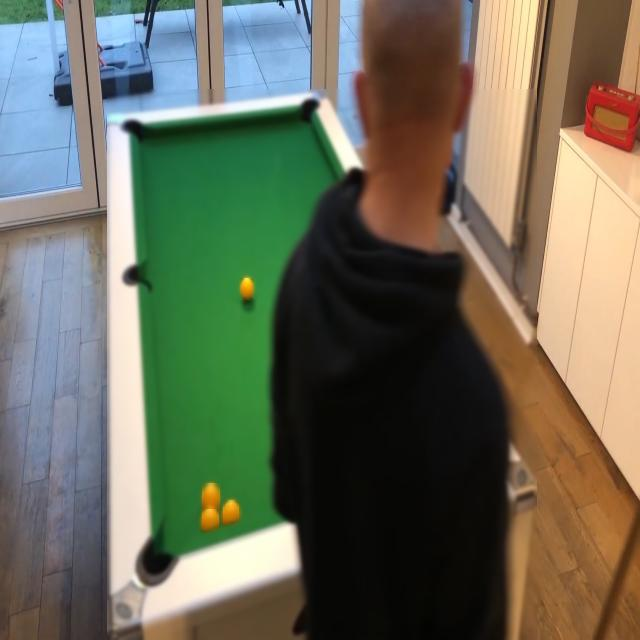Ball: (202, 483, 220, 509), (202, 507, 219, 530), (223, 500, 239, 524), (240, 278, 254, 300)
Billiard table: (107, 89, 537, 640)
